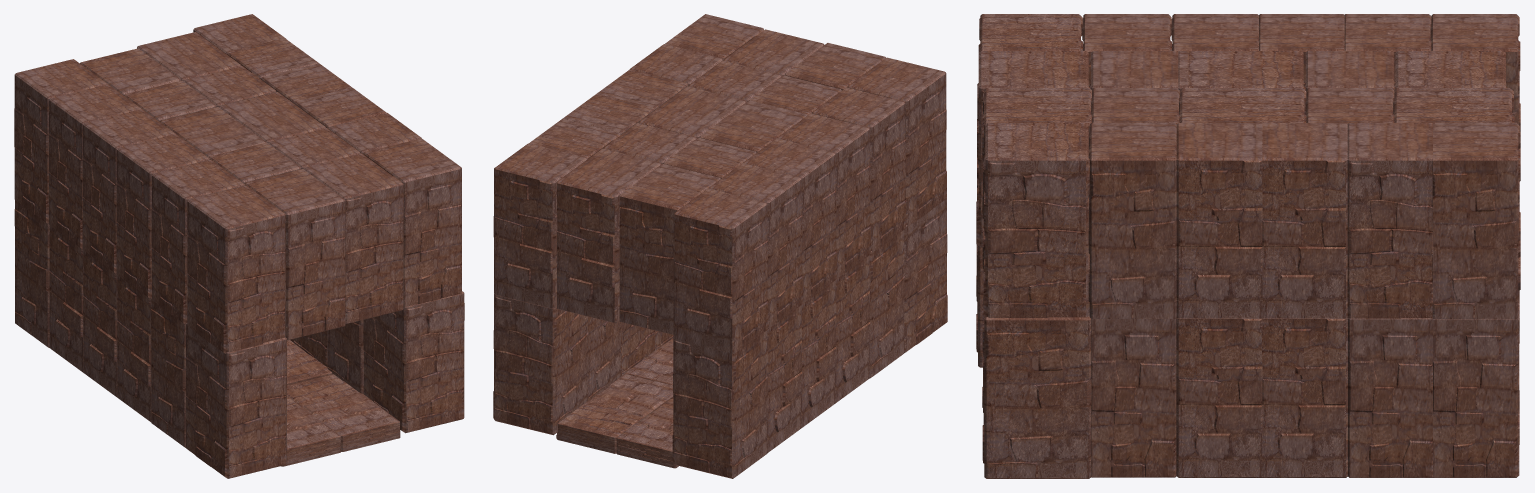
Rendered from entrada.fbx.
3 views of the same model, side by side, from view 1: azimuth 30°, elevation 25°; view 2: azimuth 150°, elevation 25°; view 3: azimuth 270°, elevation 25° (orthographic). The views are drawn at different scales.
Visible parts, largest first — view 1: pCube90, pCube76, pCube92, pCube81, pCube80, pCube86, pCube91, pCube59, pCube42, pCube57, pCube55, pCube70 (+22 smaller); view 2: pCube42, pCube3, pCube2, pCube44, pCube41, pCube54, pCube90, pCube91, pCube55, pCube59, pCube57, pCube76 (+22 smaller); view 3: pCube86, pCube92, pCube87, pCube41, pCube50, pCube51, pCube48, pCube53, pCube2, pCube52, pCube73, pCube47 (+17 smaller).
Boxes of the visible parts, left/top/right/bottom form: pCube90: left=187, top=185, right=285, bottom=353; pCube76: left=186, top=322, right=286, bottom=478; pCube92: left=363, top=291, right=464, bottom=433; pCube81: left=245, top=169, right=345, bottom=340; pCube80: left=303, top=153, right=403, bottom=323; pCube86: left=363, top=138, right=461, bottom=307; pCube91: left=151, top=159, right=245, bottom=324; pCube59: left=116, top=134, right=209, bottom=298; pCube42: left=14, top=59, right=107, bottom=223; pCube57: left=82, top=109, right=175, bottom=273; pCube55: left=49, top=84, right=141, bottom=248; pCube70: left=287, top=374, right=400, bottom=451; pCube42: left=673, top=188, right=768, bottom=353; pCube3: left=672, top=330, right=767, bottom=478; pCube2: left=493, top=294, right=588, bottom=435; pCube44: left=557, top=148, right=661, bottom=323; pCube41: left=493, top=143, right=587, bottom=308; pCube54: left=619, top=163, right=720, bottom=334; pCube90: left=847, top=57, right=946, bottom=226; pCube91: left=812, top=87, right=906, bottom=252; pCube55: left=708, top=163, right=802, bottom=328; pCube59: left=777, top=113, right=870, bottom=278; pCube57: left=743, top=138, right=836, bottom=303; pCube76: left=904, top=199, right=947, bottom=352; pCube86: left=983, top=123, right=1089, bottom=317; pCube92: left=982, top=287, right=1091, bottom=478; pCube87: left=1088, top=122, right=1176, bottom=318; pCube41: left=1432, top=122, right=1520, bottom=318; pCube50: left=1176, top=123, right=1262, bottom=318; pCube51: left=1262, top=123, right=1347, bottom=318; pCube48: left=1347, top=123, right=1432, bottom=318; pCube53: left=1176, top=318, right=1262, bottom=477; pCube2: left=1433, top=309, right=1519, bottom=477; pCube52: left=1262, top=318, right=1347, bottom=477; pCube73: left=1091, top=318, right=1176, bottom=477; pCube47: left=1348, top=318, right=1432, bottom=477.
Bounding box in the file's own units: 11.02 × 11.23 × 16.88.
Materials: 1 (1 with a texture image).
